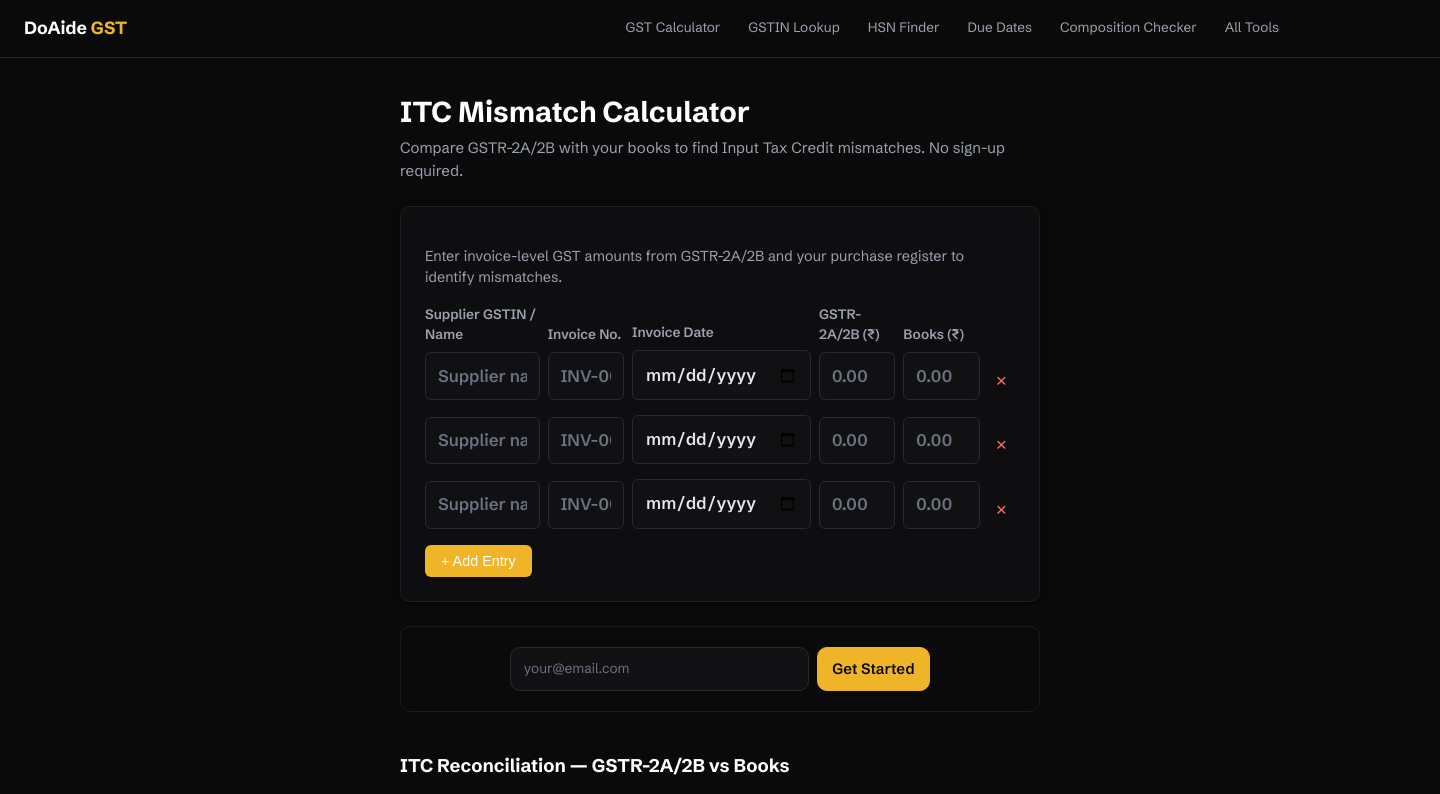
ItcMismatchPage › identifies entries not in GSTR-2A when only books amount is provided
In the number field with placeholder "0.00": (942, 376) [903,352,980,400], type "500"
(page scrolled)
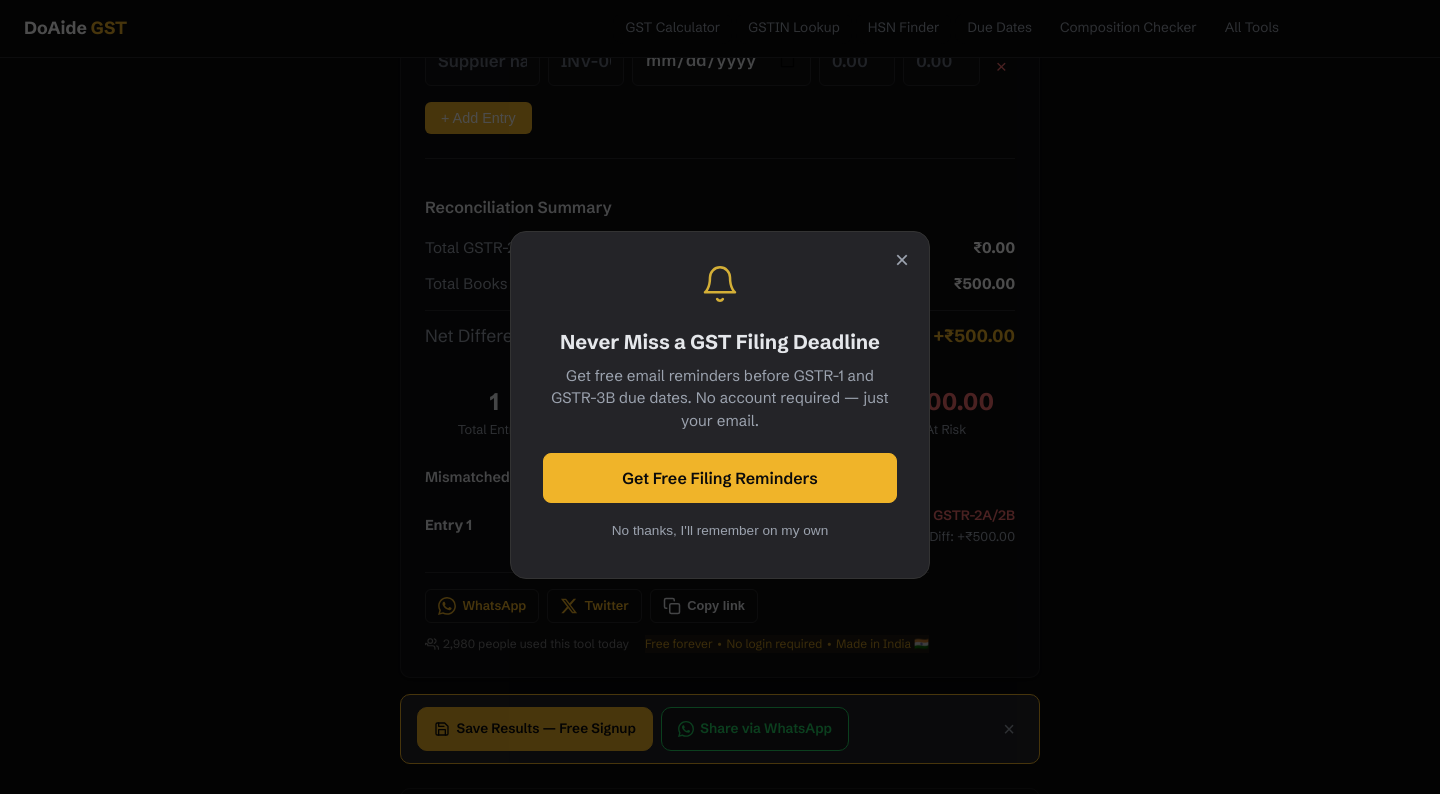
Check: the element with class "calc-result" is shown, box [425,158,1015,653]
Check: the element with class "calc-result" shows "Not in GSTR-2A/2B", box [892,507,1015,524]
